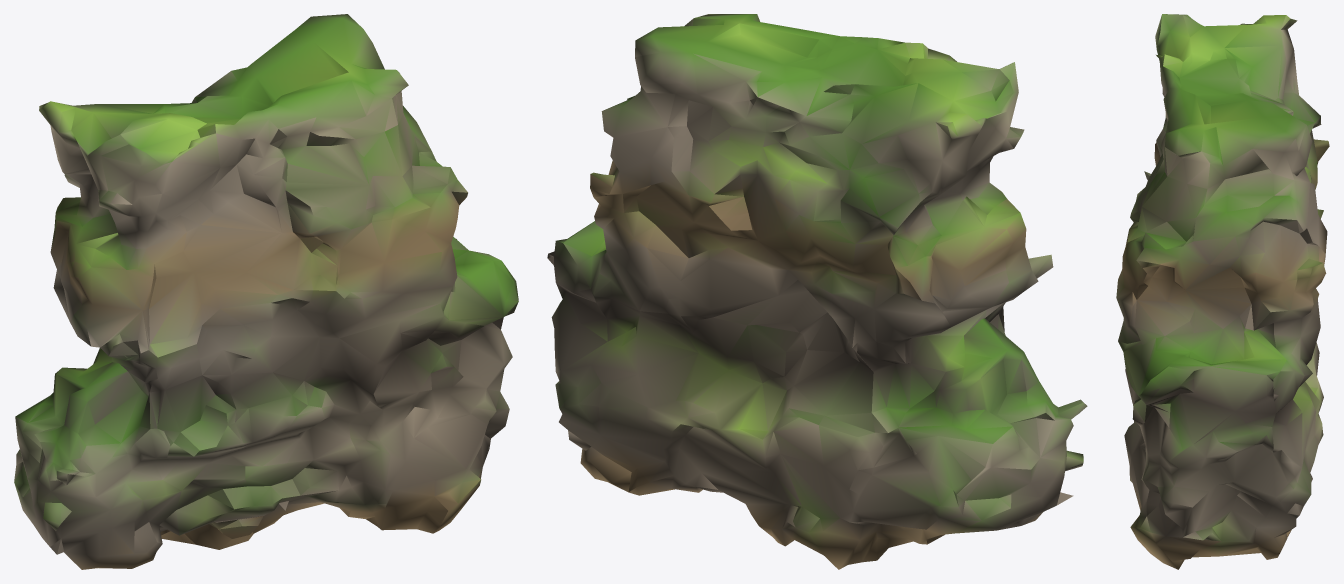
The model's file is glade_cliff_wall_a_lod1.glb.
3 renders of one model, left to right at view 1: azimuth 30°, elevation 25°; view 2: azimuth 150°, elevation 25°; view 3: azimuth 270°, elevation 25°, orthographic. The views are drawn at different scales.
Parts seen in each view (by area): view 1: glade_cliff_wall_a.001; view 2: glade_cliff_wall_a.001; view 3: glade_cliff_wall_a.001.
Part boxes in pixels (x1,y1,x2,y2): glade_cliff_wall_a.001: (14,14,518,569); glade_cliff_wall_a.001: (547,14,1087,569); glade_cliff_wall_a.001: (1116,14,1329,569).
Bounding box in the file's own units: 16.88 × 15.92 × 7.42.
